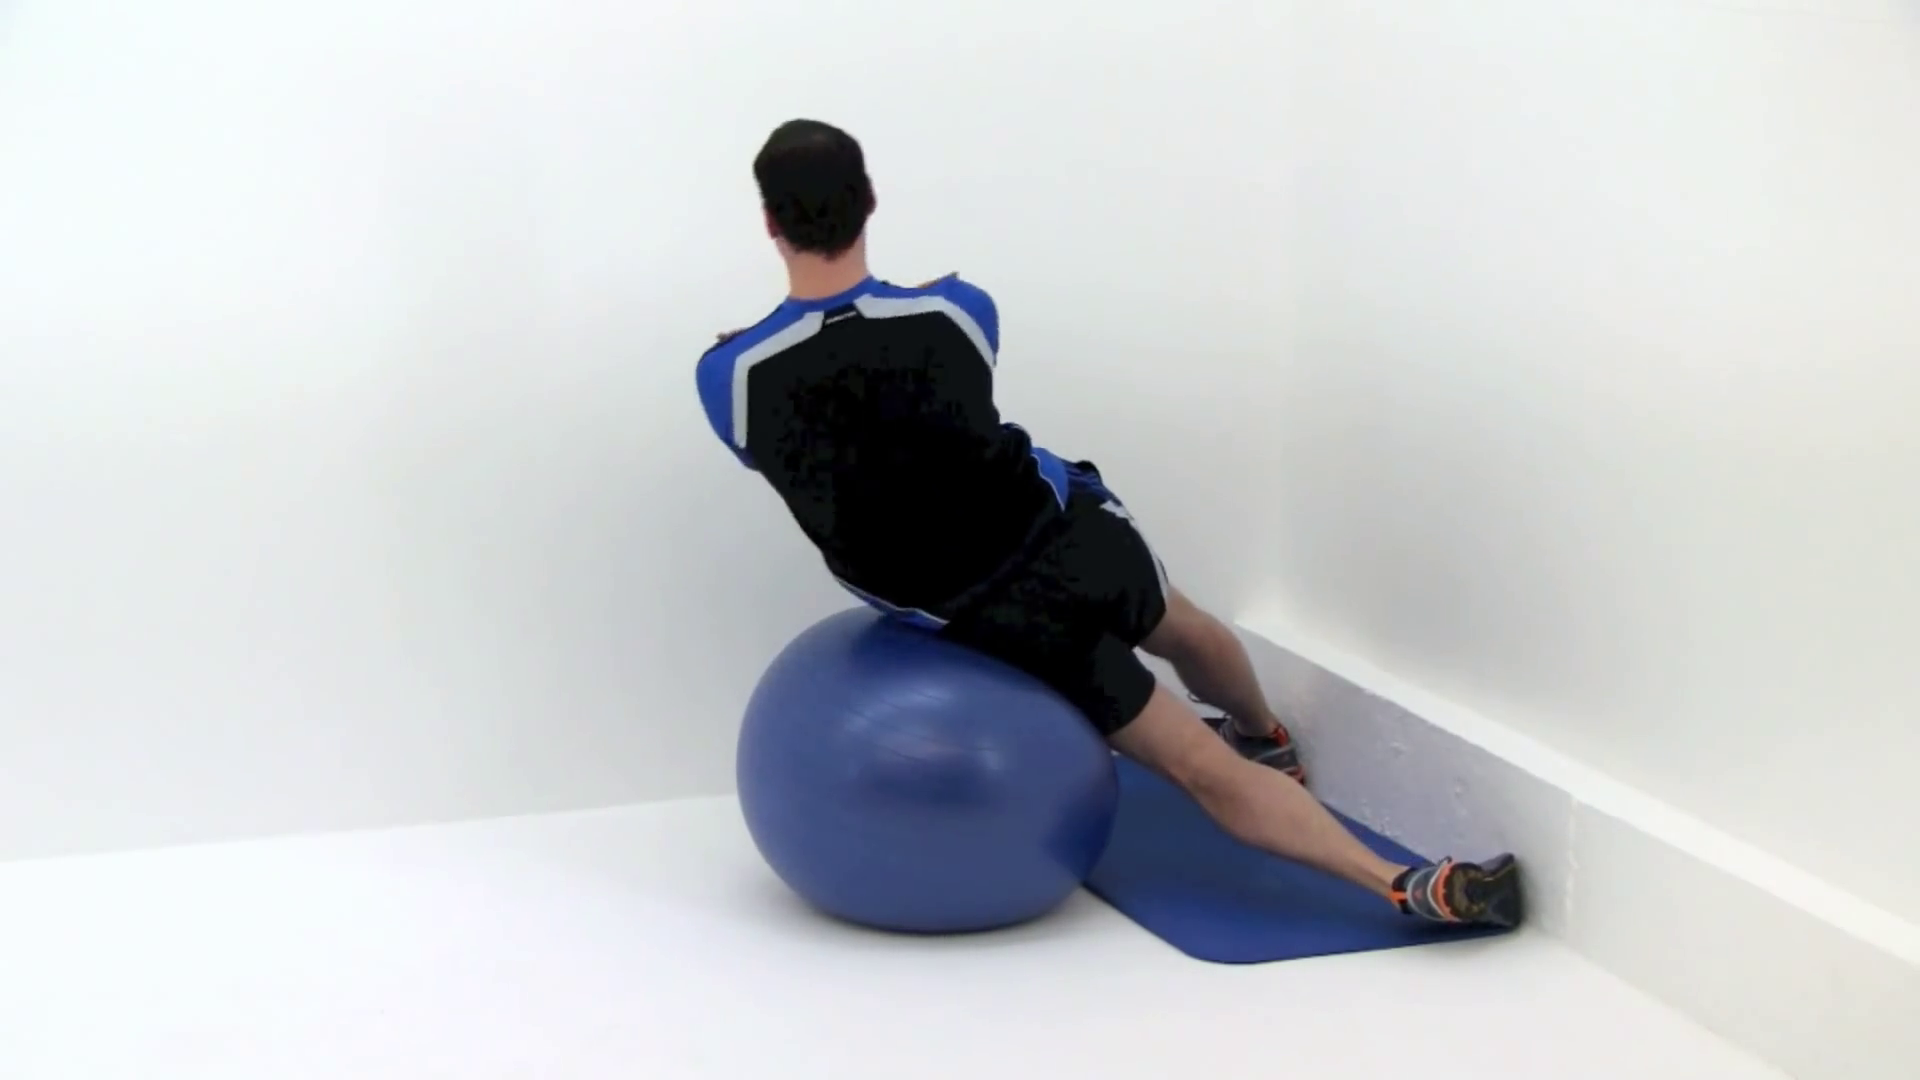yogaball: (708, 592, 1124, 963)
